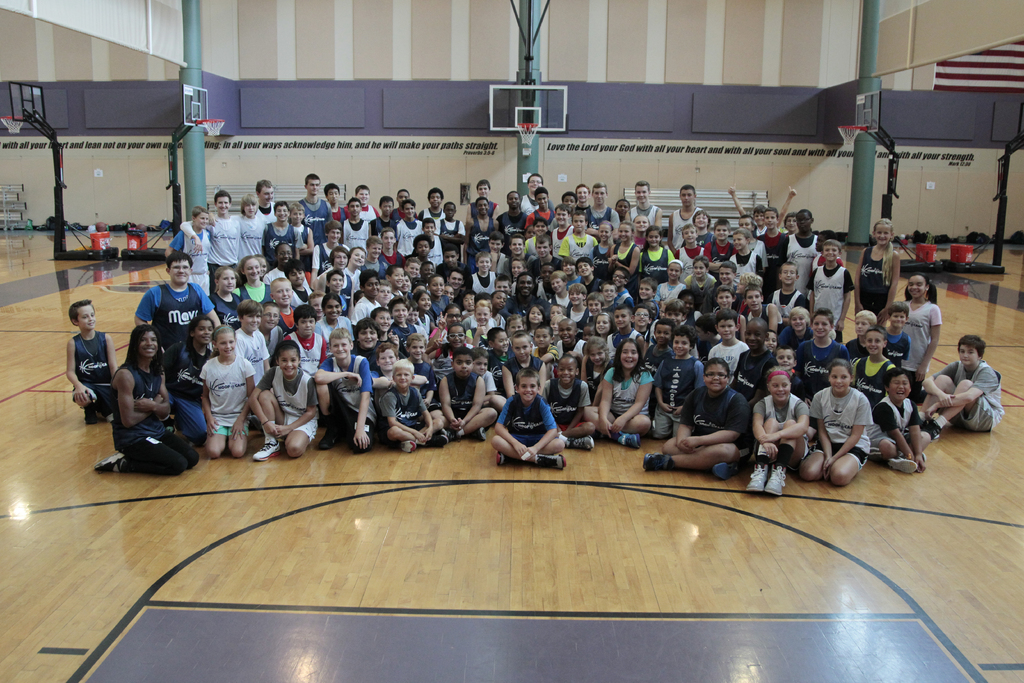Person: (66, 173, 1004, 495)
